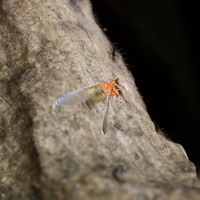insect: (55, 78, 123, 134)
